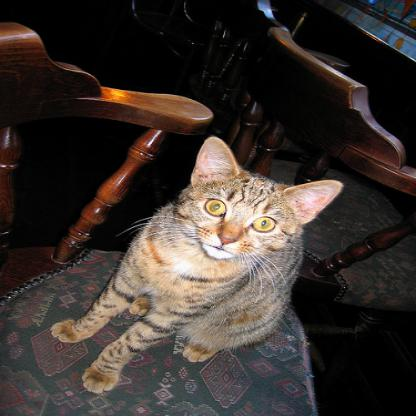cat: (49, 135, 344, 394)
chair: (0, 21, 316, 415), (237, 26, 415, 338), (196, 0, 348, 148)
